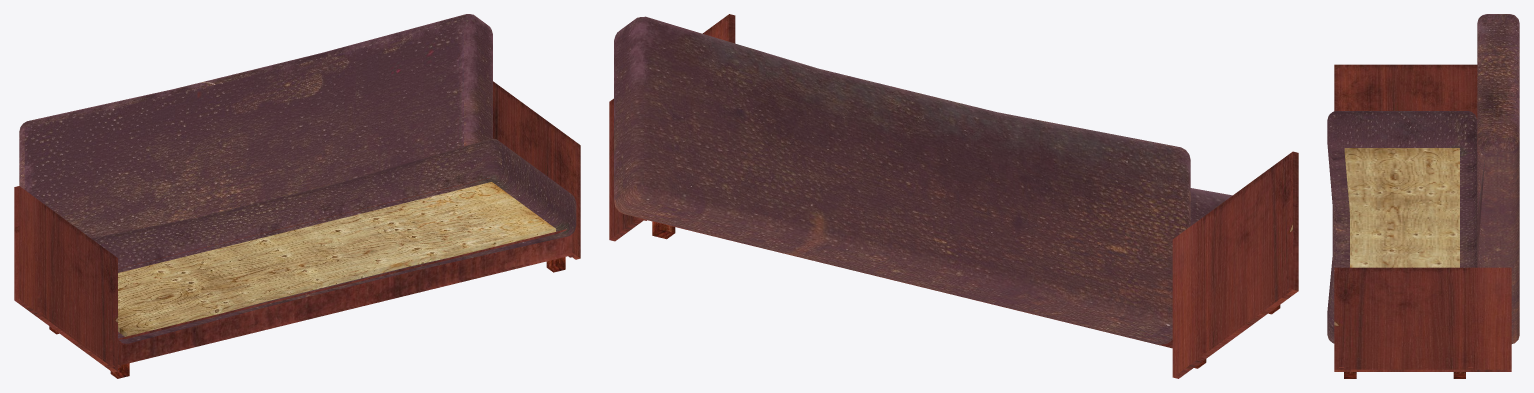
File: sofa_fbx.glb
The picture shows the model from 3 angles, left to right: view 1: azimuth 30°, elevation 25°; view 2: azimuth 150°, elevation 25°; view 3: azimuth 270°, elevation 25°; orthographic projection. The views are drawn at different scales.
Parts seen in each view (by area): view 1: Old sofa; view 2: Old sofa; view 3: Old sofa.
Part boxes in pixels (box(x1,y1,x2,y2)): Old sofa: box(14, 14, 580, 378); Old sofa: box(609, 14, 1298, 378); Old sofa: box(1327, 14, 1519, 378).
Size of the model in its own units: 1.94 by 0.7475 by 0.7693.
1 material, 1 textured.
